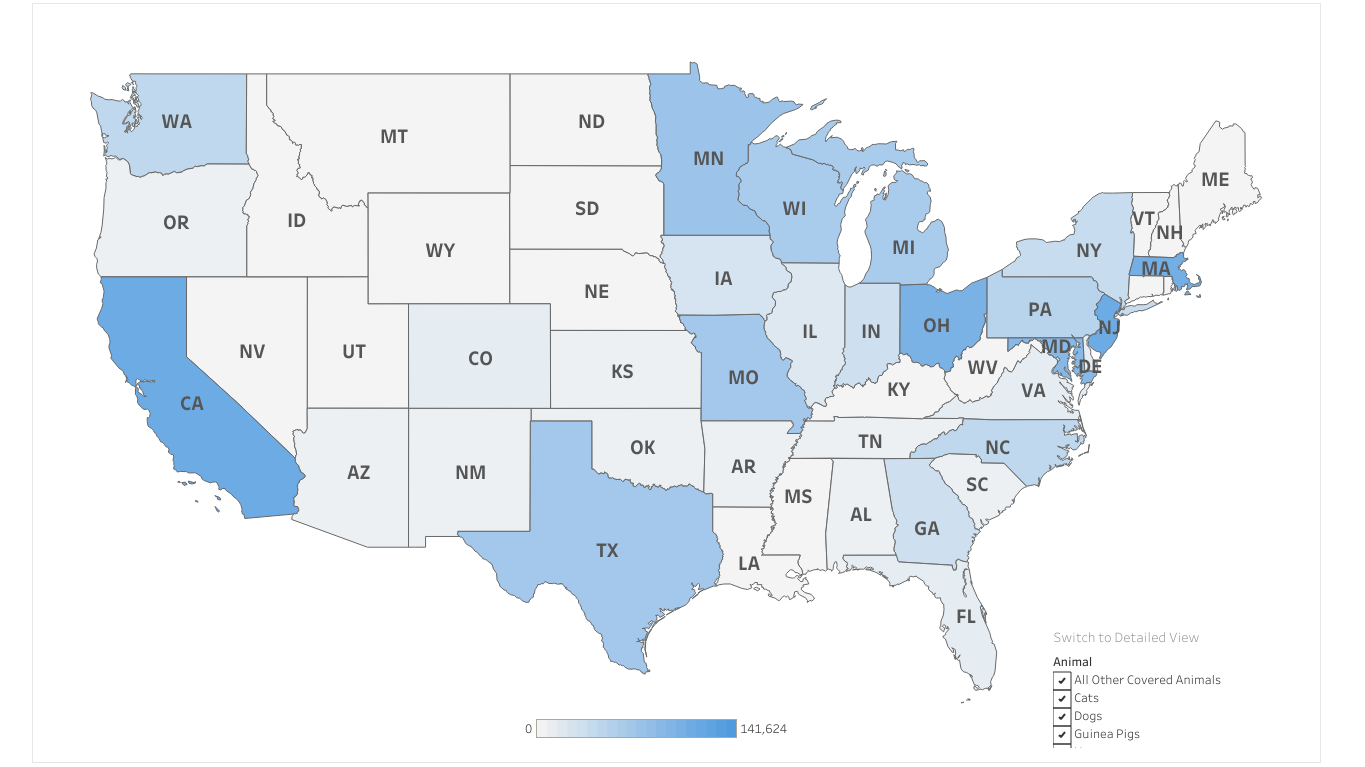

The page's visual inventory and layout, read from the dashboard file:
{"tool":"tableau","page":{"name":"Dashboard","canvas":[1366,768],"ordinal":0},"visuals":[{"type":"dashboard-object","box":[1036,623,181,26]},{"type":"filter","title":"Map","param":"[federated.0g1j4eu038myz01ectu2r0jelzqv].[none:Pivot Field Names:nk]","box":[1053,651,203,97]},{"type":"legend","title":"Map","param":"[federated.0g1j4eu038myz01ectu2r0jelzqv].[sum:Pivot Field Values:qk]","box":[517,711,279,32]}]}

Visuals, with their boxes in screenshot pixels (x1, y1, x2, y2), scaled from the page's 1366x768 canvas onto the 1365x767 screenshot:
dashboard-object: detection(1035, 622, 1216, 648)
"Map" filter: detection(1052, 650, 1255, 747)
"Map" legend: detection(517, 710, 795, 742)
